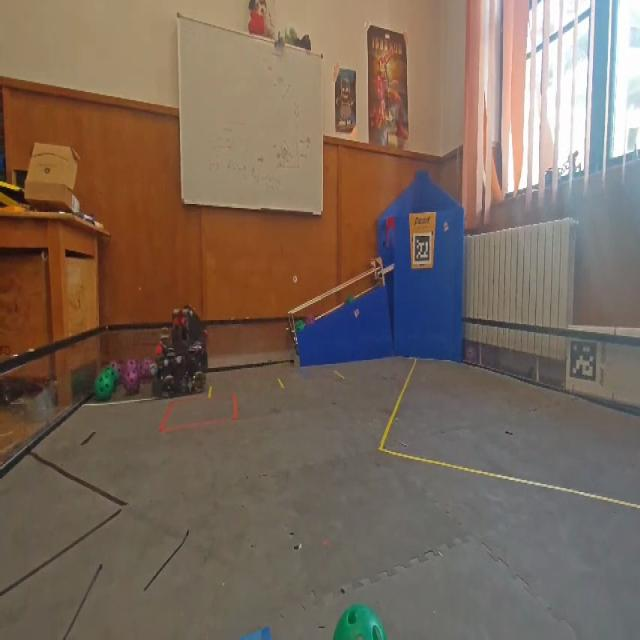artifact_green: (334, 604, 386, 639), (95, 375, 113, 401), (99, 371, 116, 393), (102, 366, 118, 386), (345, 295, 355, 305), (306, 315, 315, 326), (296, 320, 305, 331)
artifact_purple: (123, 367, 140, 394), (139, 359, 153, 381), (111, 362, 123, 382), (465, 346, 477, 363), (125, 359, 138, 371), (306, 315, 315, 326)
